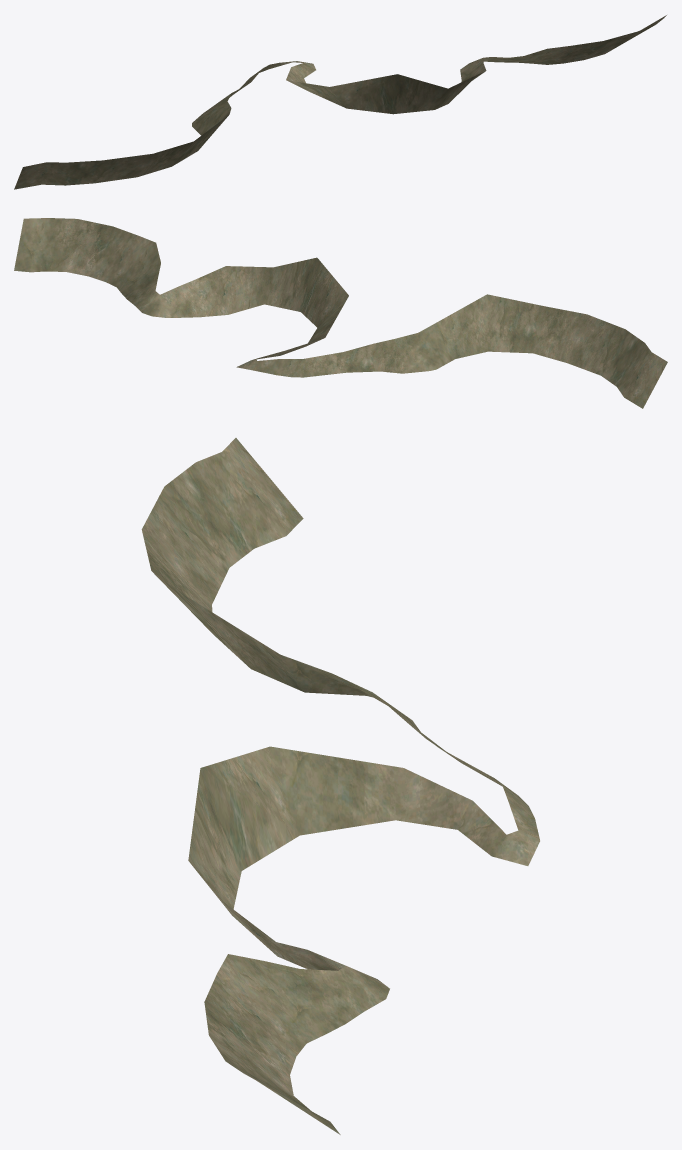
The model's file is OVERHILL_A_01_OBJECT165.fbx.
The picture shows the model from 3 angles, top to bottom: view 1: azimuth 30°, elevation 25°; view 2: azimuth 150°, elevation 25°; view 3: azimuth 270°, elevation 25°; orthographic projection. The views are drawn at different scales.
Parts seen in each view (by area): view 1: OVERHILL_A_01_OBJECT165; view 2: OVERHILL_A_01_OBJECT165; view 3: OVERHILL_A_01_OBJECT165.
Part boxes in pixels (<box>): OVERHILL_A_01_OBJECT165: <box>14,15,666,189</box>; OVERHILL_A_01_OBJECT165: <box>14,218,667,408</box>; OVERHILL_A_01_OBJECT165: <box>141,438,539,1134</box>.
Bounding box in the file's own units: 433380 × 40641 × 116976.
Materials: 1 (1 with a texture image).
